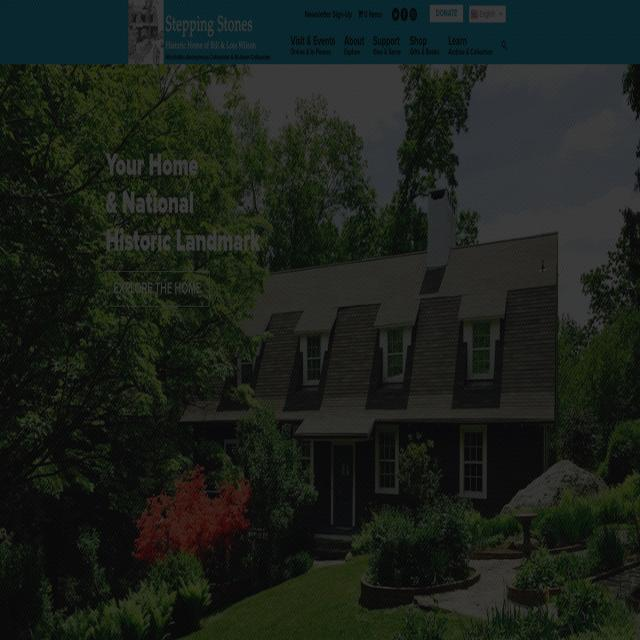button: (106, 272, 209, 306), (429, 5, 463, 22), (470, 8, 478, 20), (502, 40, 508, 50)
field: (0, 0, 64, 20)
